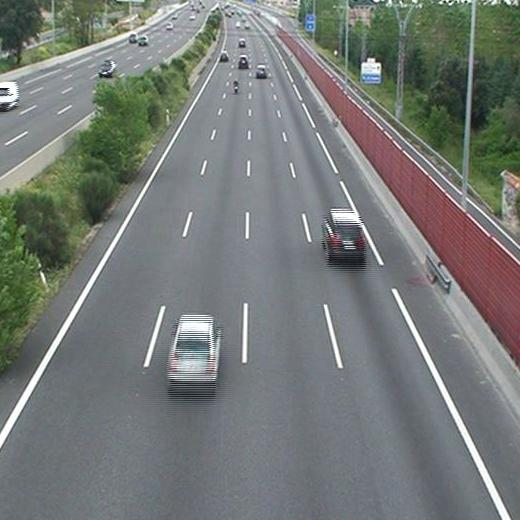car: (167, 315, 219, 385), (321, 209, 366, 261), (256, 66, 266, 77), (238, 56, 248, 67), (219, 51, 229, 61), (237, 37, 246, 47)
motorcycle: (232, 78, 240, 94)
